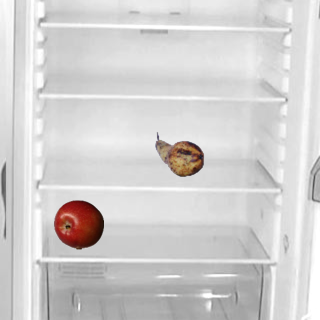Apple Braeburn: (53, 199, 103, 249)
Pear Abate: (154, 129, 204, 179)
